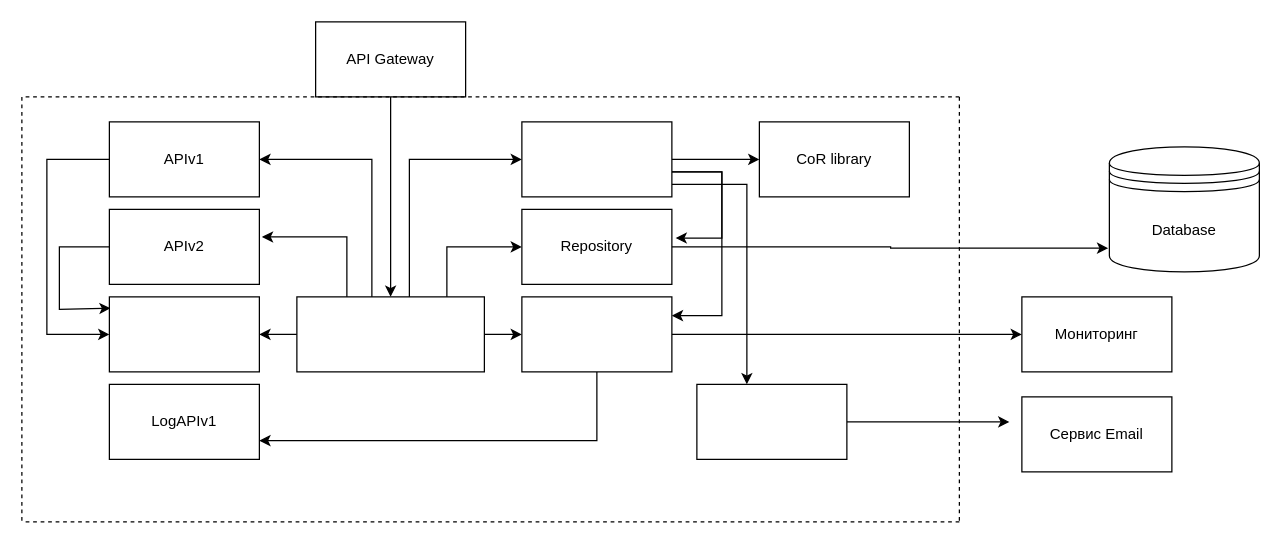
The diagram is 1281 pixels wide and 545 high, and some of its shapes have lost their labels. Each missing label, with the centre of its shape:
"Adapter Email" goes at (771,421).
"Biz" goes at (596,159).
"Framework/Controller" goes at (390,334).
"Log Library" goes at (596,334).
"Models" goes at (183,334).
